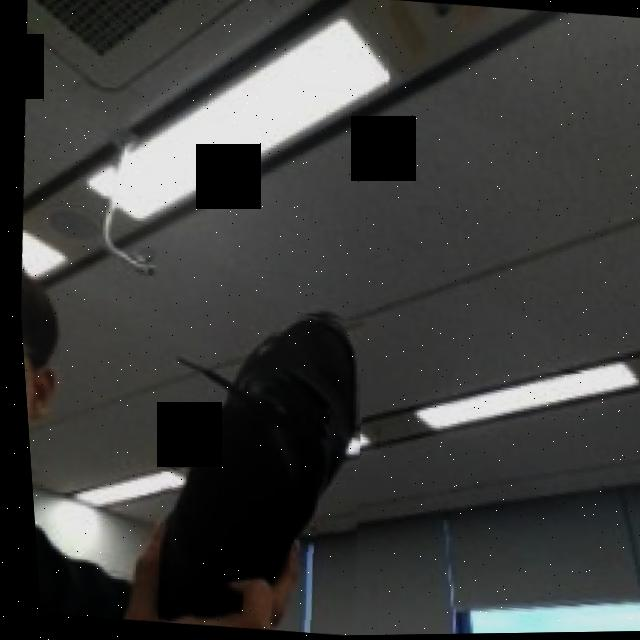shoe: (132, 297, 377, 639)
